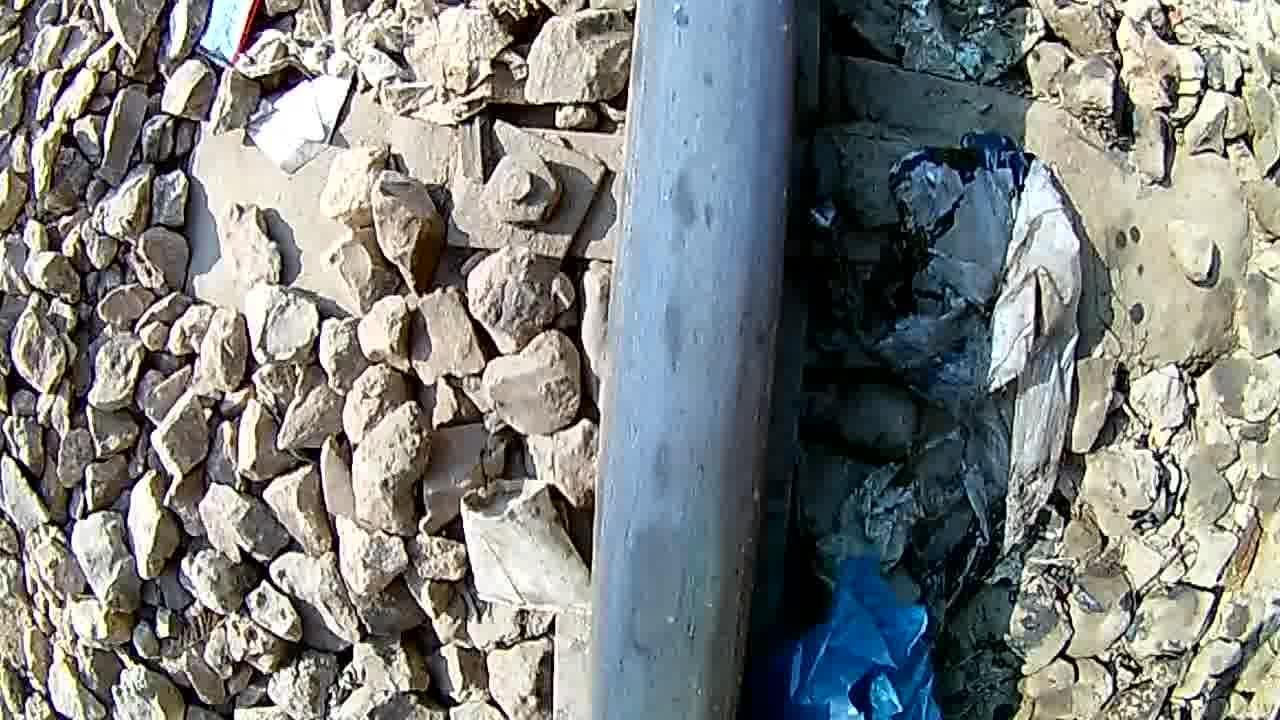crack: (606, 9, 781, 720)
